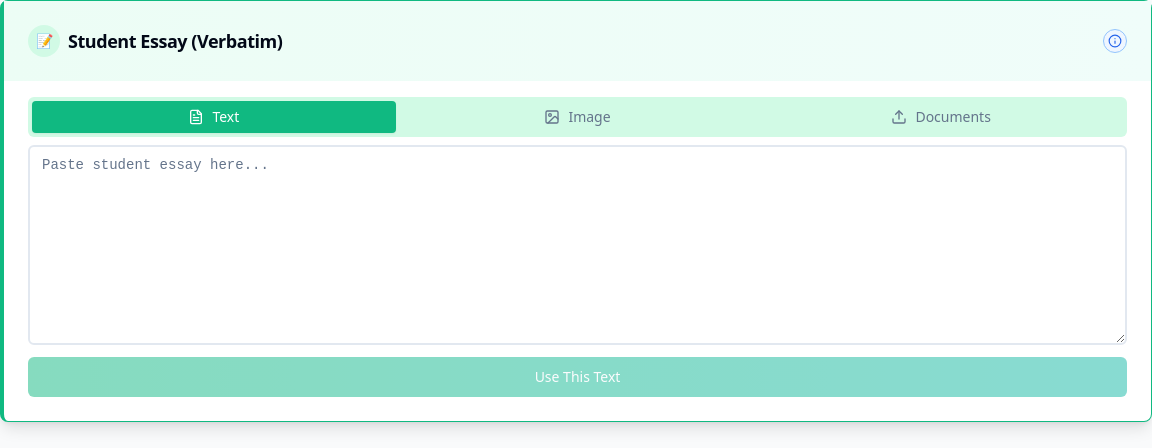
Test: VerbatimViewer Component › Documents Tab › should show document upload area
Click the tab "Documents" at (941, 117), box [759,101,1123,133]
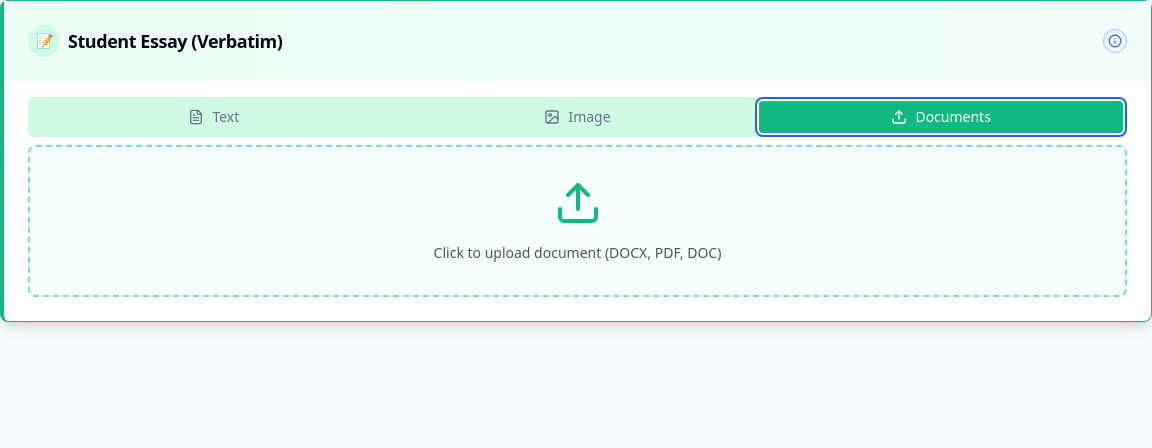
Now the text "Click to upload document (DOCX, PDF, DOC)" is shown, box [434,243,721,262]
